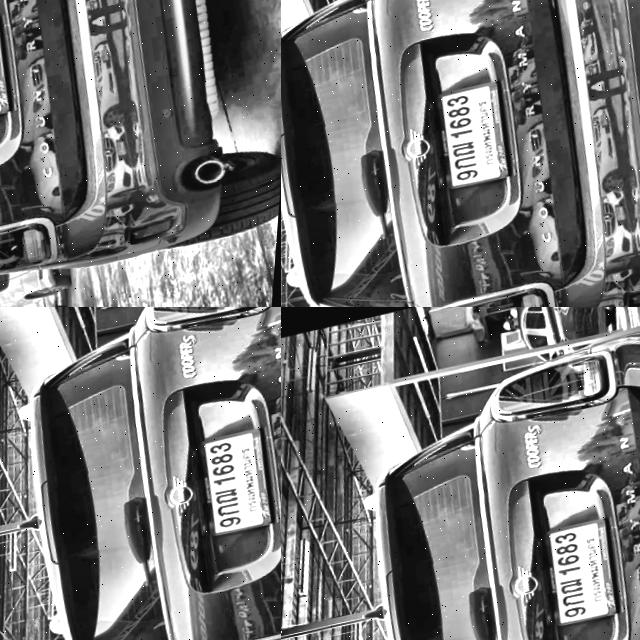license-plate: (536, 520, 630, 632)
